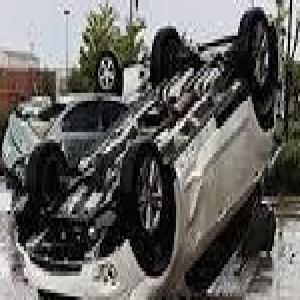fatal: (8, 0, 286, 300)
